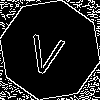V: (25, 25, 68, 77)
